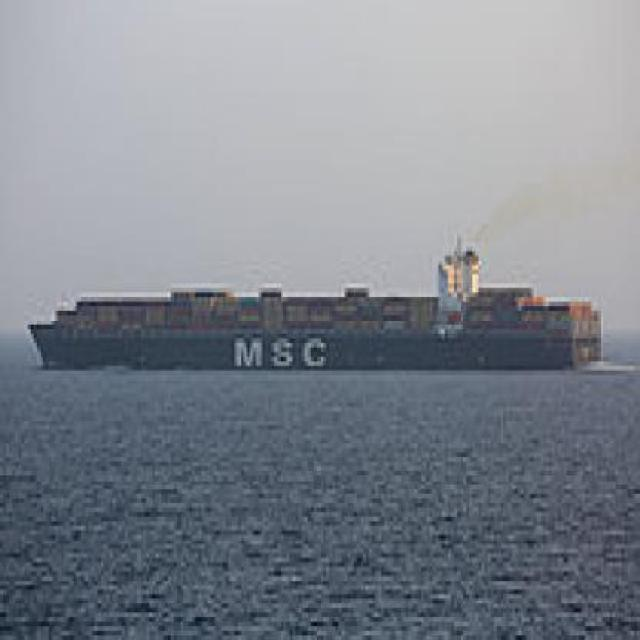container: (11, 257, 614, 385)
